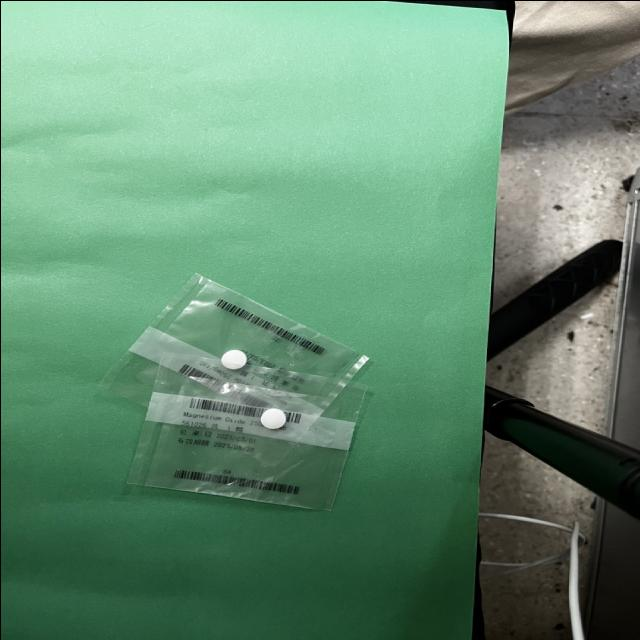Other Objects: (101, 272, 369, 508)
